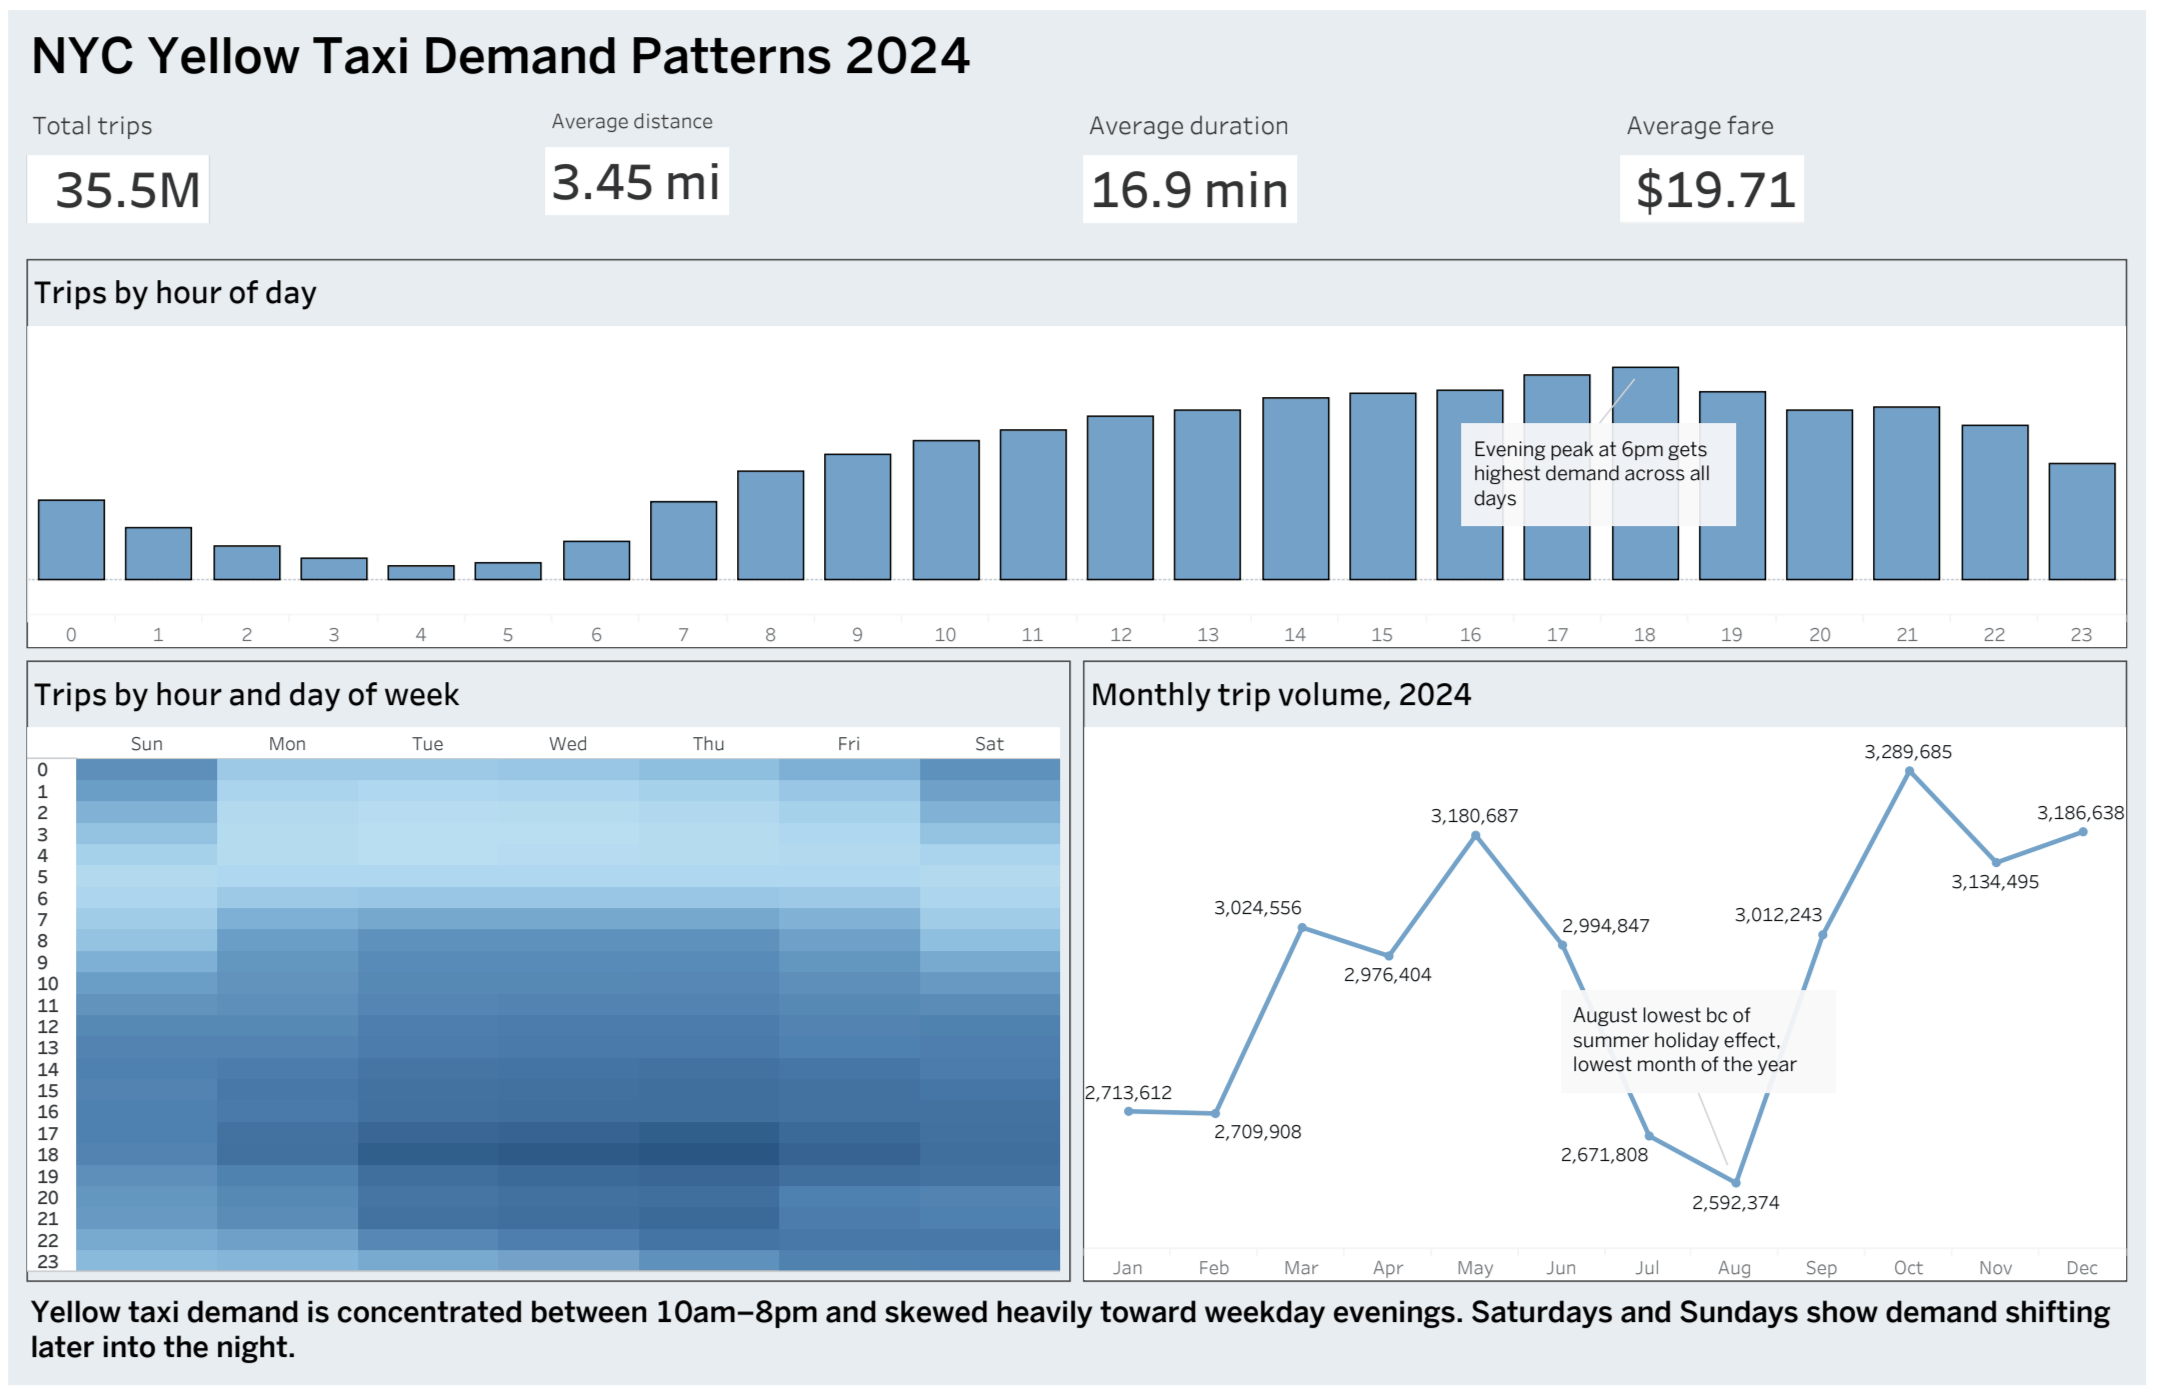

What the dashboard file says about the page in this screenshot:
{"tool":"tableau","page":{"name":"Demand patterns","canvas":[1400,900],"ordinal":0},"visuals":[{"type":"text","box":[8,8,1384,45.1]},{"type":"worksheet","title":"Total trips","mark":"Automatic","box":[8,53.1,340.3,106]},{"type":"worksheet","title":"Average distance","mark":"Automatic","box":[348.3,53.1,351.7,106]},{"type":"worksheet","title":"Average duration","mark":"Automatic","box":[700,53.1,351.6,106]},{"type":"worksheet","title":"Average fare","mark":"Automatic","box":[1051.6,53.1,340.4,106]},{"type":"worksheet","title":"Hourly Demand","mark":"Bar","rows":["total_trips"],"cols":["pickup_hour"],"box":[8,159.1,1384,262.7]},{"type":"worksheet","title":"Heatmap","mark":"Square","rows":["pickup_hour"],"cols":["day_name"],"box":[8,421.8,692,415.2]},{"type":"worksheet","title":"Monthly trend","mark":"Line","rows":["total_trips"],"cols":["month_name"],"box":[700,421.8,692,415.2]},{"type":"text","box":[8,837,1384,55]}]}

Visuals, with their boxes in screenshot pixels (x1, y1, x2, y2), scaled from the page's 1400x900 canvas onto the 2160x1398 screenshot:
text: (x1=12, y1=12, x2=2148, y2=82)
"Total trips" worksheet: (x1=12, y1=82, x2=537, y2=247)
"Average distance" worksheet: (x1=537, y1=82, x2=1080, y2=247)
"Average duration" worksheet: (x1=1080, y1=82, x2=1622, y2=247)
"Average fare" worksheet: (x1=1622, y1=82, x2=2148, y2=247)
"Hourly Demand" worksheet (Bar marks): (x1=12, y1=247, x2=2148, y2=655)
"Heatmap" worksheet (Square marks): (x1=12, y1=655, x2=1080, y2=1300)
"Monthly trend" worksheet (Line marks): (x1=1080, y1=655, x2=2148, y2=1300)
text: (x1=12, y1=1300, x2=2148, y2=1386)
